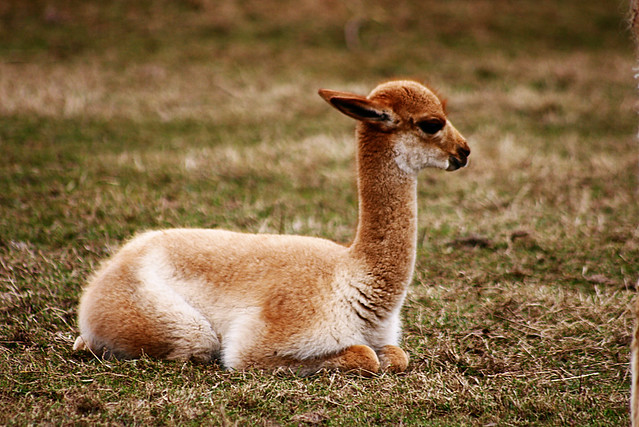eye: (415, 112, 448, 140)
mouth: (444, 149, 476, 174)
